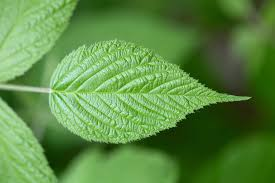healthy: (44, 36, 263, 164)
